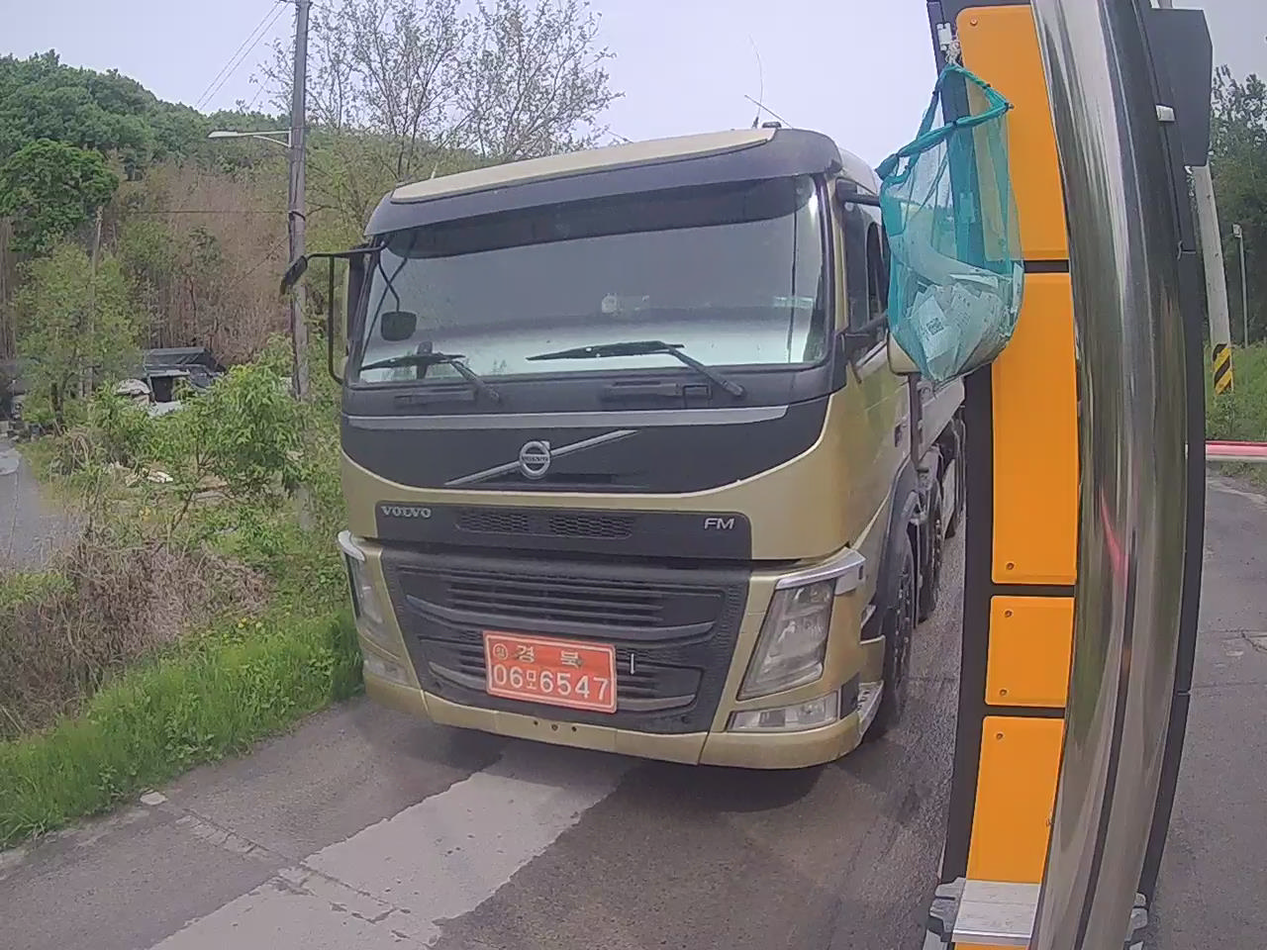license_plate: (485, 633, 616, 711)
truck: (312, 126, 963, 766)
